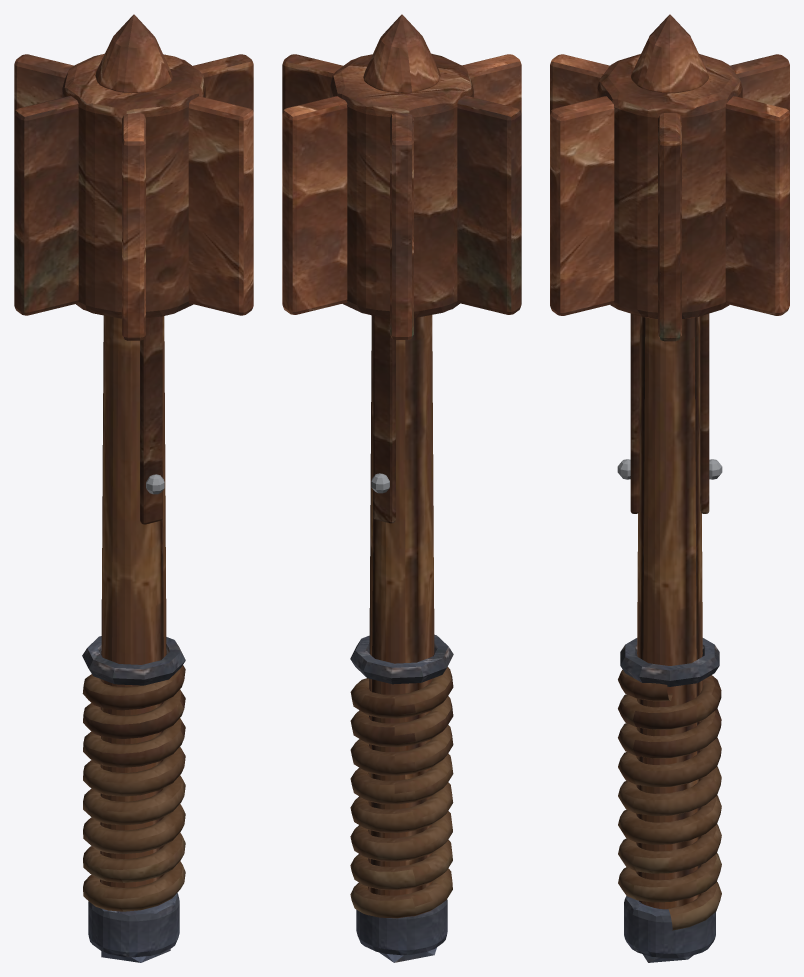
File: mace_copper.glb
3 views of the same model, side by side, from view 1: azimuth 30°, elevation 25°; view 2: azimuth 150°, elevation 25°; view 3: azimuth 270°, elevation 25° (orthographic).
Parts seen in each view (by area): view 1: model; view 2: model; view 3: model.
Part boxes in pixels (left/top/right/bottom): model: left=14, top=14, right=253, bottom=962; model: left=282, top=14, right=521, bottom=962; model: left=550, top=14, right=789, bottom=962.
Bounding box in the file's own units: 0.18 × 0.6971 × 0.1607.
Materials: 9 (8 with a texture image).
